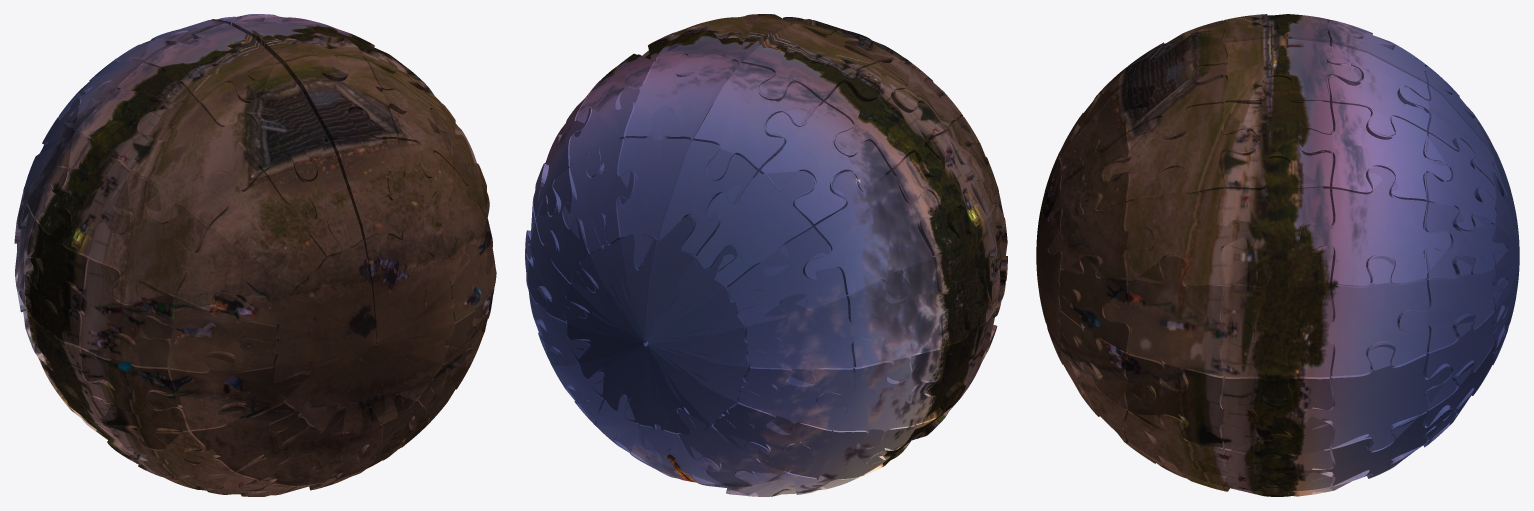
File: medium-puzzle-v1.fbx
3 views of the same model, side by side, from view 1: azimuth 30°, elevation 25°; view 2: azimuth 150°, elevation 25°; view 3: azimuth 270°, elevation 25° (orthographic).
Visible parts, largest first — view 1: Street View 360 1.001, Street View 360 1.051, Street View 360 1.052, Street View 360 1.050, Street View 360 1.053, Street View 360 1.066, Street View 360 1.065, Street View 360 1.046, Street View 360 1.047, Street View 360 1.067, Street View 360 1.045, Street View 360 1.063 (+27 smaller); view 2: Street View 360 1.002, Street View 360 1.018, Street View 360 1.019, Street View 360 1.003, Street View 360 1.032, Street View 360 1.031, Street View 360 1.005, Street View 360 1.046, Street View 360 1.020, Street View 360 1.030, Street View 360 1.047, Street View 360 1.045 (+26 smaller); view 3: Street View 360 1.041, Street View 360 1.042, Street View 360 1.028, Street View 360 1.061, Street View 360 1.062, Street View 360 1.027, Street View 360 1.043, Street View 360 1.048, Street View 360 1.029, Street View 360 1.026, Street View 360 1.040, Street View 360 1.044 (+26 smaller).
Boxes of the visible parts, x1=… form: Street View 360 1.001: x1=242, y1=217, x2=469, y2=433; Street View 360 1.051: x1=132, y1=103, x2=263, y2=226; Street View 360 1.052: x1=90, y1=172, x2=209, y2=304; Street View 360 1.050: x1=200, y1=63, x2=328, y2=181; Street View 360 1.053: x1=60, y1=258, x2=176, y2=367; Street View 360 1.066: x1=161, y1=227, x2=314, y2=325; Street View 360 1.065: x1=209, y1=171, x2=325, y2=287; Street View 360 1.046: x1=78, y1=63, x2=197, y2=175; Street View 360 1.047: x1=36, y1=132, x2=133, y2=256; Street View 360 1.067: x1=139, y1=293, x2=277, y2=371; Street View 360 1.045: x1=144, y1=23, x2=280, y2=103; Street View 360 1.063: x1=331, y1=108, x2=404, y2=270; Street View 360 1.002: x1=565, y1=215, x2=781, y2=450; Street View 360 1.018: x1=803, y1=171, x2=938, y2=303; Street View 360 1.019: x1=846, y1=257, x2=962, y2=383; Street View 360 1.003: x1=697, y1=171, x2=814, y2=286; Street View 360 1.032: x1=759, y1=102, x2=890, y2=226; Street View 360 1.031: x1=694, y1=63, x2=822, y2=177; Street View 360 1.005: x1=745, y1=293, x2=883, y2=386; Street View 360 1.046: x1=824, y1=63, x2=944, y2=174; Street View 360 1.020: x1=816, y1=347, x2=941, y2=449; Street View 360 1.030: x1=615, y1=55, x2=738, y2=140; Street View 360 1.047: x1=890, y1=132, x2=986, y2=255; Street View 360 1.045: x1=742, y1=23, x2=878, y2=102; Street View 360 1.041: x1=1221, y1=255, x2=1333, y2=405; Street View 360 1.042: x1=1221, y1=158, x2=1333, y2=287; Street View 360 1.028: x1=1299, y1=167, x2=1451, y2=286; Street View 360 1.061: x1=1103, y1=255, x2=1255, y2=391; Street View 360 1.062: x1=1125, y1=167, x2=1257, y2=285; Street View 360 1.027: x1=1297, y1=256, x2=1429, y2=376; Street View 360 1.043: x1=1221, y1=76, x2=1333, y2=189; Street View 360 1.048: x1=1103, y1=103, x2=1257, y2=201; Street View 360 1.029: x1=1299, y1=103, x2=1451, y2=201; Street View 360 1.026: x1=1297, y1=344, x2=1451, y2=450; Street View 360 1.040: x1=1221, y1=375, x2=1333, y2=454; Street View 360 1.044: x1=1193, y1=37, x2=1361, y2=102.
Size of the model in its own units: 3820 by 3826 by 3829.
